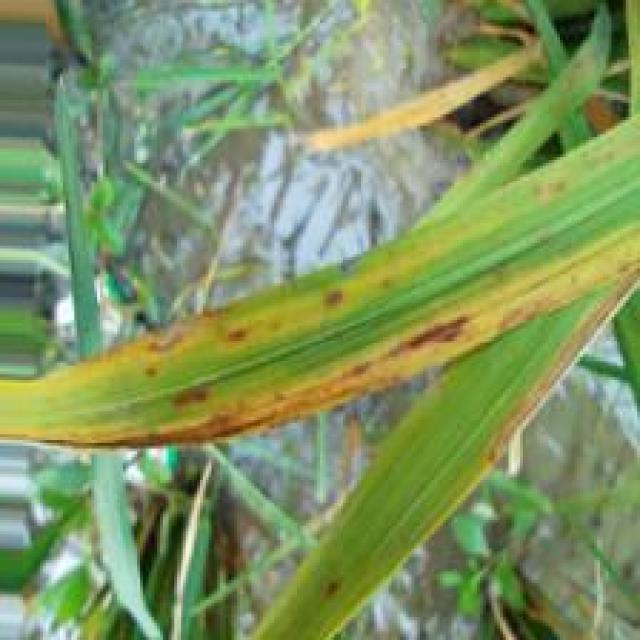Narrow_Brown_Leaf_Spot: (4, 285, 597, 450), (0, 233, 477, 388)
